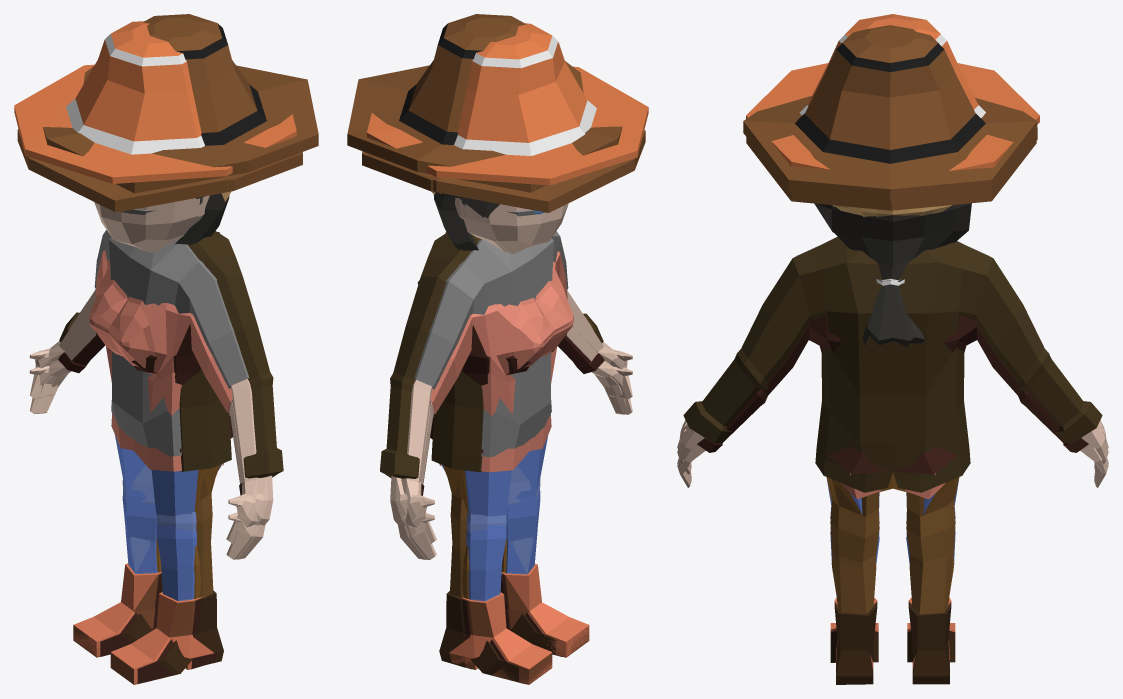
Rendered from characters.fbx.
The picture shows the model from 3 angles, left to right: view 1: azimuth 30°, elevation 25°; view 2: azimuth 150°, elevation 25°; view 3: azimuth 270°, elevation 25°; orthographic projection. The views are drawn at different scales.
Visible parts, largest first — view 1: farmer05, hat.002, farmer03, farmer01, hat, farmer02, hat.004, hat.001; view 2: farmer05, hat.002, farmer03, farmer01, hat, farmer02, hat.004, hat.001; view 3: farmer01, hat, farmer02, hat.002, hat.001, farmer05.
Part boxes in pixels (x1,y1,x2,y2): farmer05: (29, 194, 256, 684); hat.002: (14, 21, 296, 183); farmer03: (29, 197, 261, 684); farmer01: (40, 191, 283, 682); hat: (43, 14, 318, 193); farmer02: (35, 193, 265, 684); hat.004: (17, 129, 245, 211); hat.001: (120, 152, 302, 211); farmer05: (407, 196, 632, 684); hat.002: (367, 23, 648, 185); farmer03: (401, 201, 632, 684); farmer01: (380, 191, 621, 682); hat: (347, 14, 622, 192); farmer02: (398, 192, 627, 684); hat.004: (367, 130, 645, 212); hat.001: (362, 151, 435, 192); farmer01: (677, 205, 1108, 684); hat: (743, 25, 1037, 201); farmer02: (677, 203, 1108, 641); hat.002: (746, 14, 1039, 170); hat.001: (746, 134, 1036, 210); farmer05: (677, 213, 1108, 670).
Size of the model in its own units: 237 by 500 by 306.
